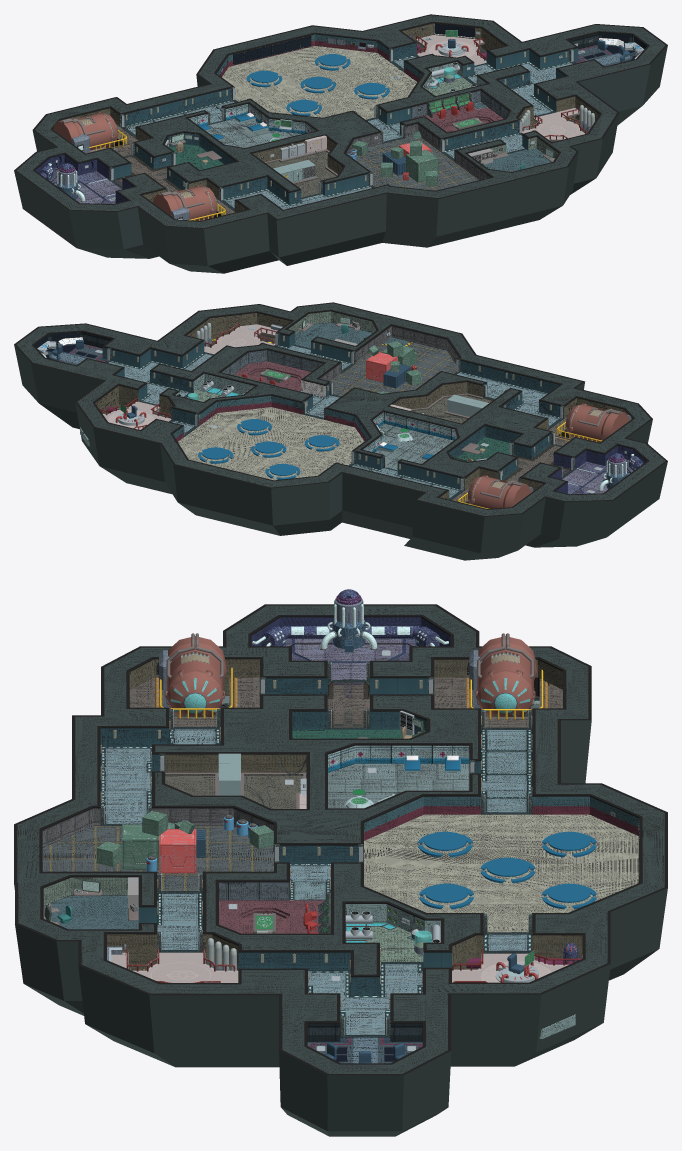
3 renders of one model, top to bottom at view 1: azimuth 30°, elevation 25°; view 2: azimuth 150°, elevation 25°; view 3: azimuth 270°, elevation 25°, orthographic. The views are drawn at different scales.
Visible parts, largest first — view 1: group_81 (×34), group_152, group_162 (×2), group_96 (×2), Caja-verde-almacen, group_93; view 2: group_81 (×36), group_152, group_162 (×2), group_16, group_96, group_36; view 3: group_81 (×49), group_152, group_162 (×4), group_96 (×2), group_89, group_36, Caja-verde-almacen, group_16, group_93.
Boxes of the visible parts, <box> form: group_81 (×34): <box>14,14,667,228</box>; group_152: <box>14,24,667,273</box>; group_162 (×2): <box>53,113,211,220</box>; group_96 (×2): <box>522,108,583,139</box>; Caja-verde-almacen: <box>406,155,438,182</box>; group_93: <box>417,35,486,65</box>; group_81 (×36): <box>14,302,667,516</box>; group_152: <box>14,333,667,560</box>; group_162 (×2): <box>473,404,629,508</box>; group_16: <box>447,394,488,416</box>; group_96: <box>204,324,277,354</box>; group_36: <box>366,357,397,382</box>; group_81 (×49): <box>14,604,667,1075</box>; group_152: <box>14,696,667,1136</box>; group_162 (×4): <box>166,636,537,716</box>; group_96 (×2): <box>111,952,238,982</box>; group_89: <box>295,639,402,661</box>; group_36: <box>159,844,196,873</box>; Caja-verde-almacen: <box>122,840,159,869</box>; group_16: <box>218,753,240,795</box>; group_93: <box>452,953,566,982</box>.
Bounding box in the file's own units: 1994 × 1170 × 248.
Materials: 93 (46 with a texture image).
